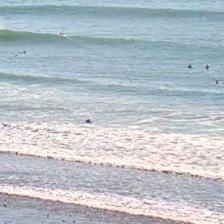surfer: (85, 119, 92, 123), (206, 64, 210, 70), (20, 50, 26, 54), (188, 64, 193, 68), (59, 33, 65, 36), (13, 54, 18, 57), (216, 81, 220, 84)
